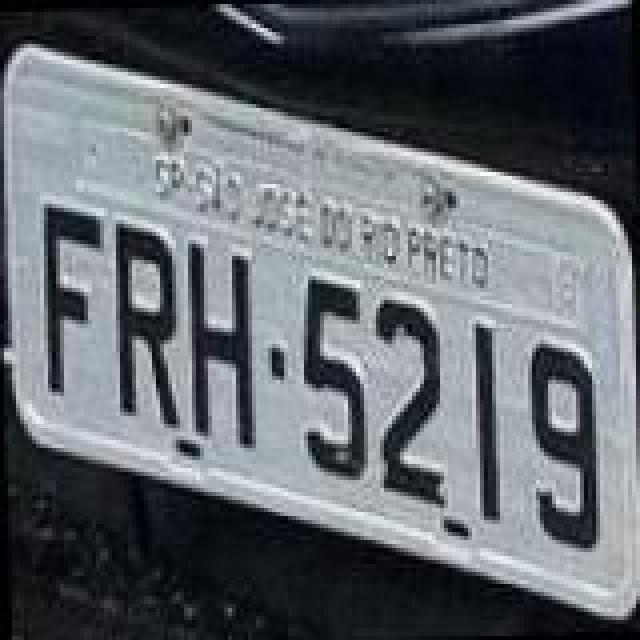1: (468, 314, 500, 522)
2: (376, 294, 448, 514)
5: (294, 270, 366, 482)
9: (526, 334, 602, 554)
F: (38, 196, 106, 396)
H: (180, 230, 252, 450)
R: (110, 216, 178, 428)
